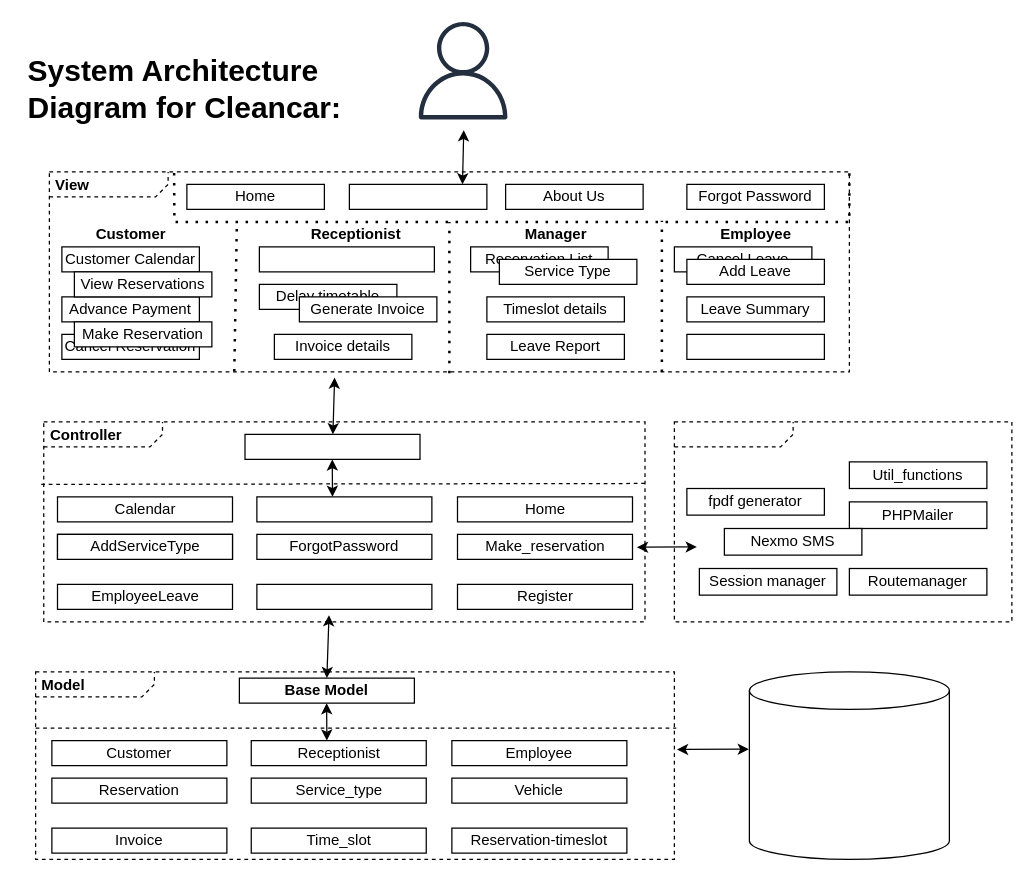
Image size: 1034x881. Some labels were removed from this diagram. Here are the shapes that lost their labels. From the top down, the box of each, then its label:
(348, 183, 487, 209): Terms & Conditions
(258, 246, 434, 272): Emergency Reservation
(686, 333, 824, 359): Change details
(244, 433, 420, 459): Base Controller
(256, 496, 432, 522): Login
(673, 421, 1012, 622): lib
(256, 583, 432, 609): Timeslot
(748, 671, 949, 859): Cleancar Database
